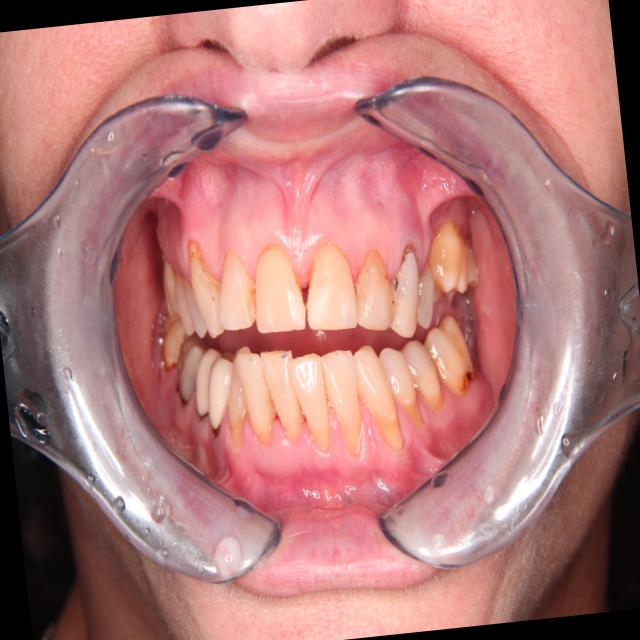tooth: (241, 231, 318, 347), (296, 230, 370, 346), (348, 333, 412, 462), (282, 345, 343, 464), (254, 339, 313, 458), (315, 344, 371, 467), (230, 341, 287, 458), (419, 307, 486, 405), (372, 333, 431, 441), (182, 236, 237, 350), (345, 242, 402, 342), (380, 231, 430, 345), (209, 247, 267, 344), (399, 332, 451, 428), (422, 212, 474, 302), (196, 353, 243, 448), (220, 344, 256, 454), (167, 330, 210, 414), (178, 268, 215, 346), (189, 343, 222, 428), (156, 303, 192, 376), (167, 268, 199, 344), (412, 261, 443, 337), (156, 250, 184, 325), (461, 233, 481, 292)
